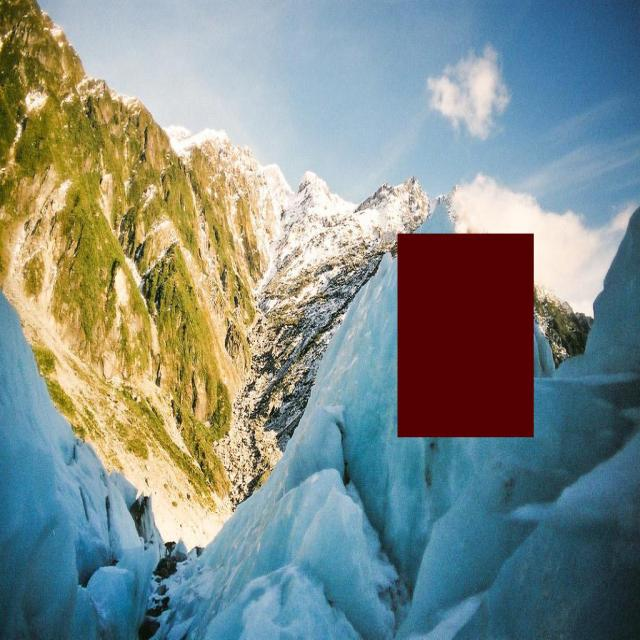RedSquare: (392, 225, 536, 443)
